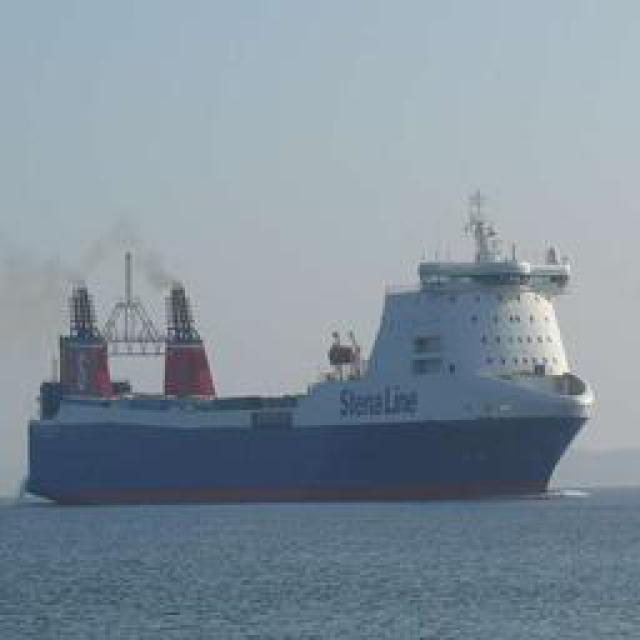Ship: (32, 189, 600, 497)
